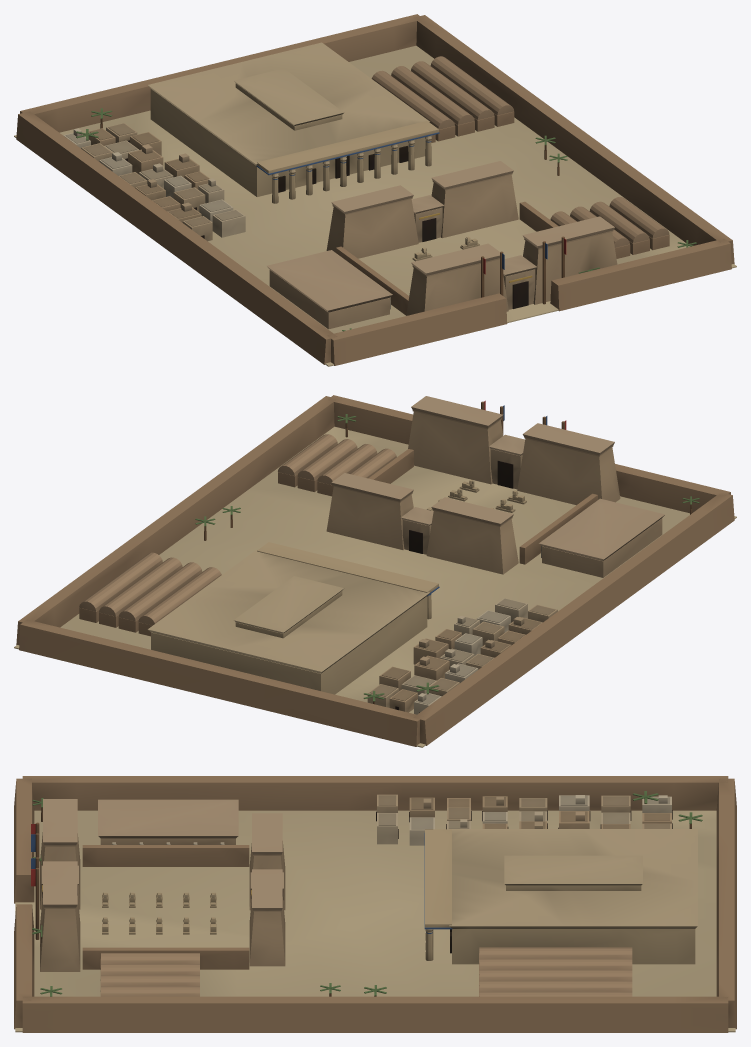
The model's file is seti-qurna.glb.
3 views of the same model, one above another, from view 1: azimuth 30°, elevation 25°; view 2: azimuth 150°, elevation 25°; view 3: azimuth 270°, elevation 25° (orthographic). The views are drawn at different scales.
Parts seen in each view (by area): view 1: p0_magazines, p1_pylons, p3_trees, p2_temple; view 2: p0_magazines, p1_pylons, p3_trees, p2_temple; view 3: p0_magazines, p1_pylons, p3_trees, p2_temple.
Part boxes in pixels (<box>): p0_magazines: <box>14,14,736,366</box>; p1_pylons: <box>148,42,617,329</box>; p3_trees: <box>63,108,696,331</box>; p2_temple: <box>256,121,439,309</box>; p0_magazines: <box>14,395,736,747</box>; p1_pylons: <box>148,396,664,694</box>; p3_trees: <box>195,414,699,714</box>; p2_temple: <box>257,542,541,619</box>; p0_magazines: <box>14,776,736,1032</box>; p1_pylons: <box>31,799,697,971</box>; p3_trees: <box>32,791,702,996</box>; p2_temple: <box>112,829,452,960</box>.
Bounding box in the file's own units: 121 × 17.7 × 161.
